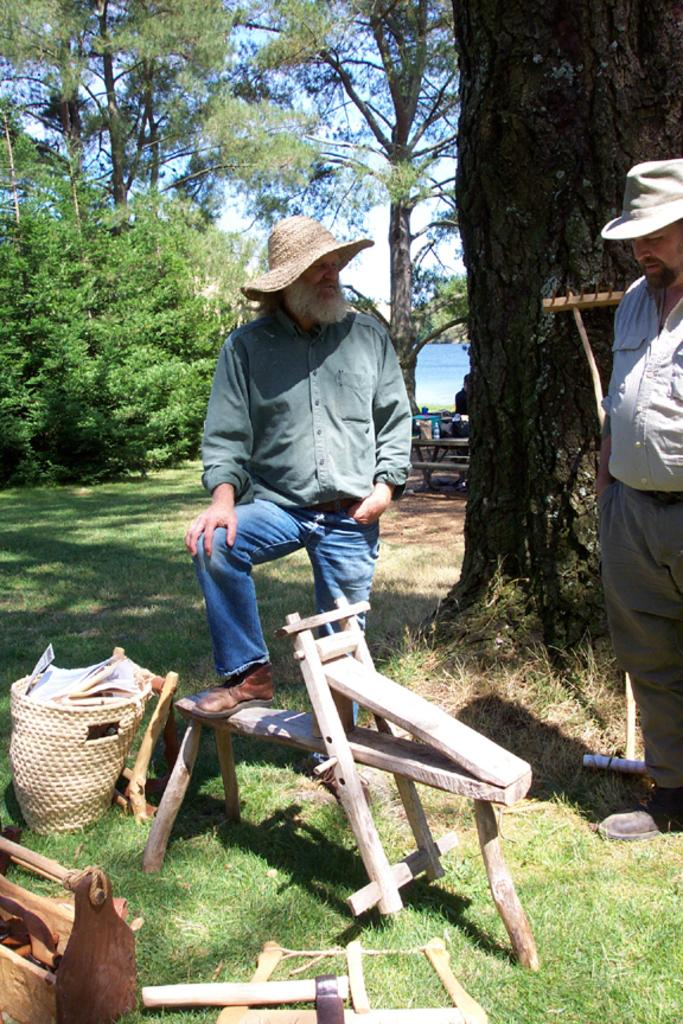Hat: (238, 214, 379, 304), (599, 153, 681, 241)
